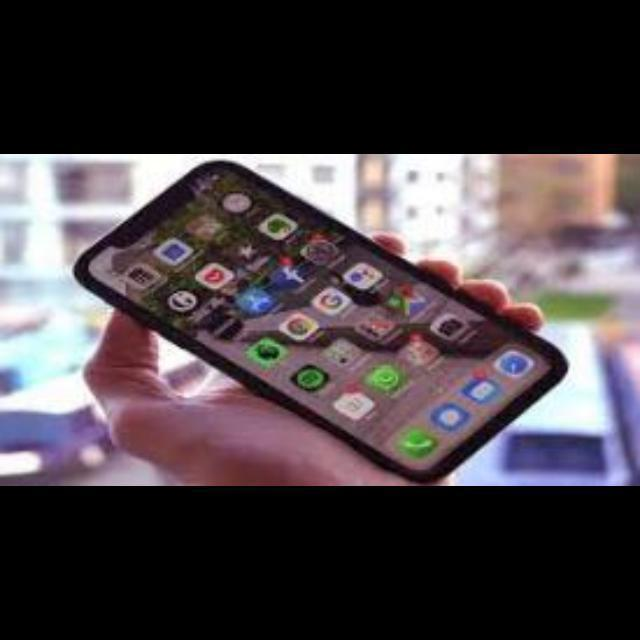phone: (63, 152, 632, 470)
